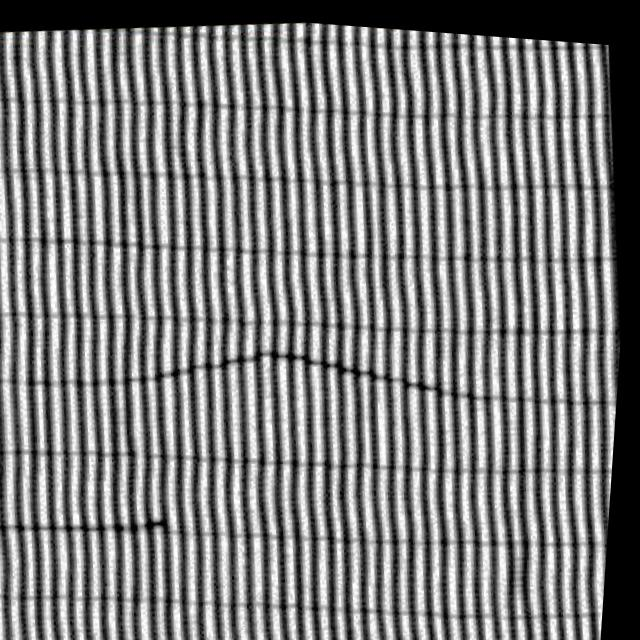Stitch: (149, 286, 492, 440)
